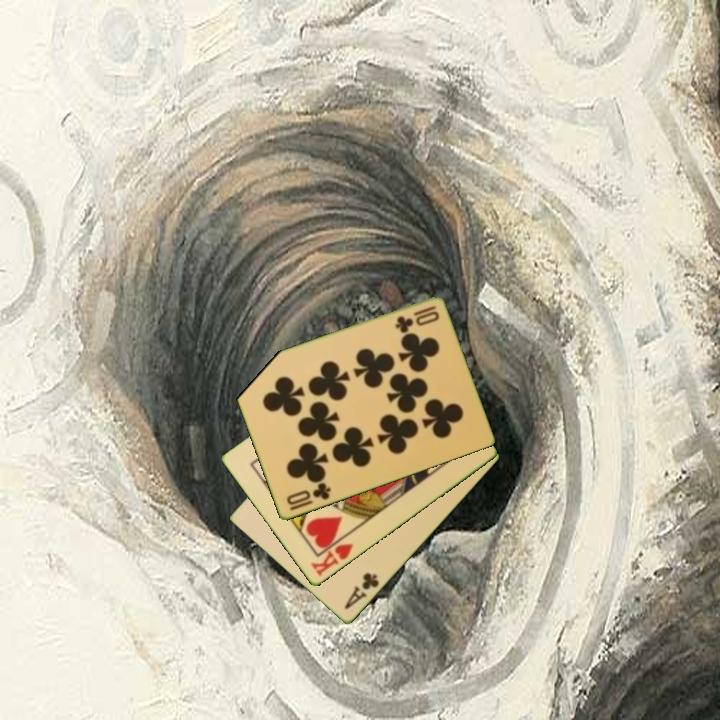10c: (283, 479, 333, 514), (392, 302, 439, 335)
Ac: (340, 569, 382, 613)
Kh: (307, 532, 356, 580)
